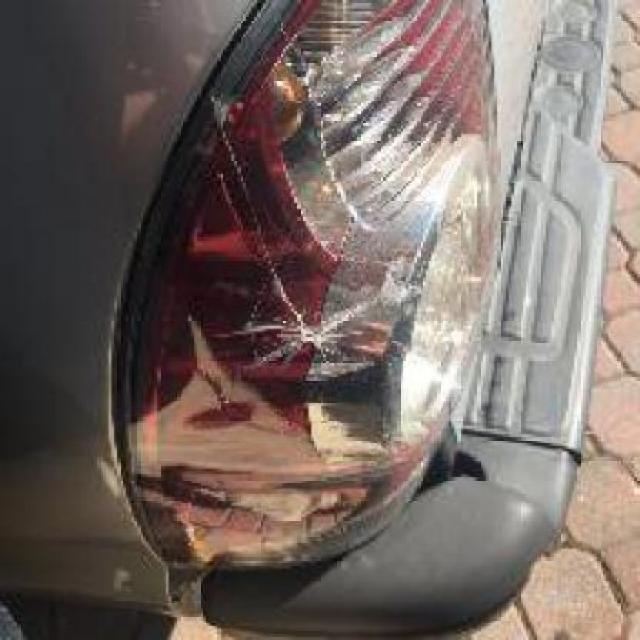damaged-tail-light: (134, 3, 466, 534)
